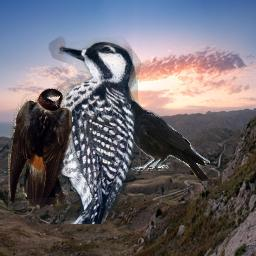Crow: (102, 98, 210, 182)
Swallow: (8, 88, 72, 210)
Woodpecker: (36, 35, 141, 224)
